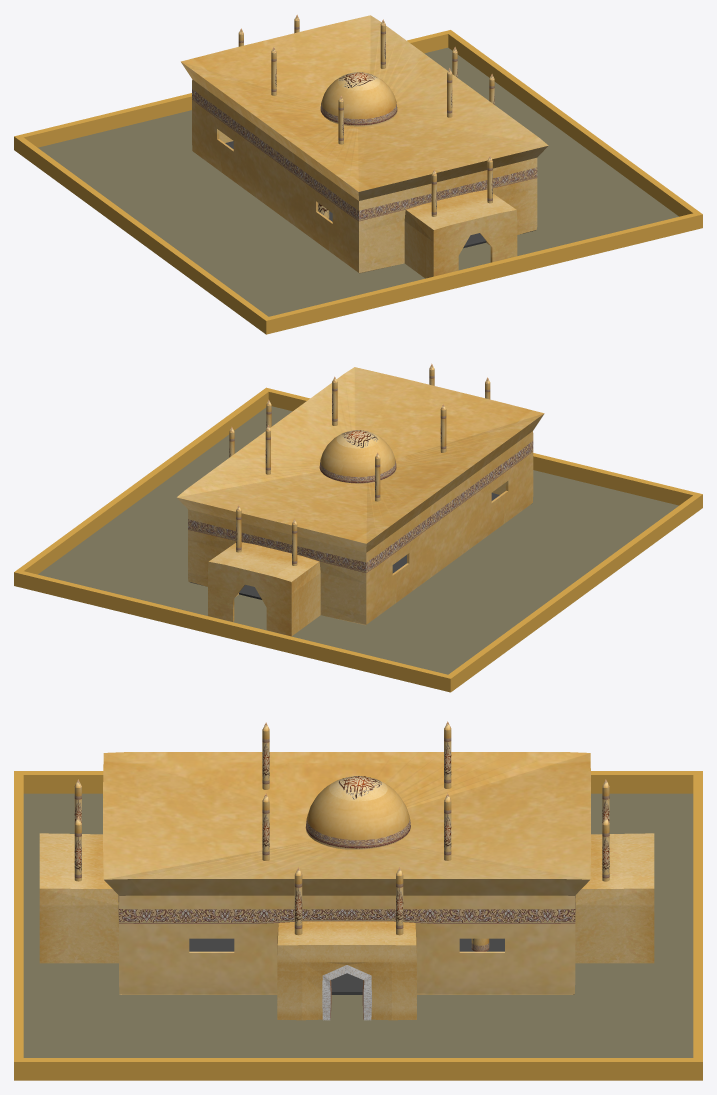
The model's file is mosque.glb.
3 renders of one model, top to bottom at view 1: azimuth 30°, elevation 25°; view 2: azimuth 150°, elevation 25°; view 3: azimuth 270°, elevation 25°, orthographic. The views are drawn at different scales.
Parts seen in each view (by area): view 1: Box001, Ground, Wall, Sphere002_08 - Default_0; view 2: Box001, Ground, Wall, Sphere002_08 - Default_0; view 3: Box001, Ground, Wall, Sphere002_08 - Default_0, Cylinder016_07 - Default_0, Cylinder019_07 - Default_0, Cylinder015_07 - Default_0.
Boxes of the visible parts, x1,y1,x2,y2 form: Box001: (181,15,548,278); Ground: (38,47,678,316); Wall: (14,30,702,334); Sphere002_08 - Default_0: (320,72,397,126); Box001: (177,367,544,636); Ground: (38,406,678,674); Wall: (14,387,702,692); Sphere002_08 - Default_0: (319,430,396,483); Box001: (39,752,654,1020); Ground: (23,793,693,1057); Wall: (14,771,702,1080); Sphere002_08 - Default_0: (305,776,410,849); Cylinder016_07 - Default_0: (74,816,609,881); Cylinder019_07 - Default_0: (74,779,609,822); Cylinder015_07 - Default_0: (294,867,302,935).
Bounding box in the file's own units: 100 × 30.98 × 100.
Materials: 9 (6 with a texture image).
